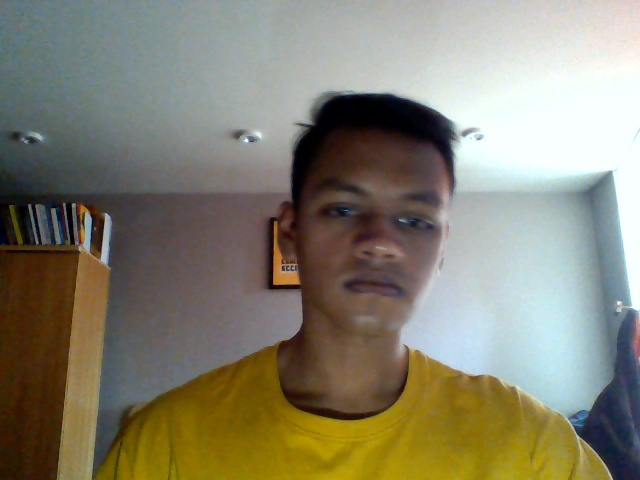no_mask: (290, 229, 443, 338)
